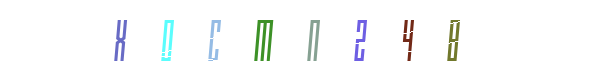2: (290, 0, 370, 80)
4: (368, 0, 448, 80)
8: (404, 0, 484, 80)
C: (208, 0, 288, 80)
M: (223, 0, 303, 80)
N: (260, 0, 340, 80)
O: (196, 0, 276, 80)
X: (127, 0, 207, 80)
